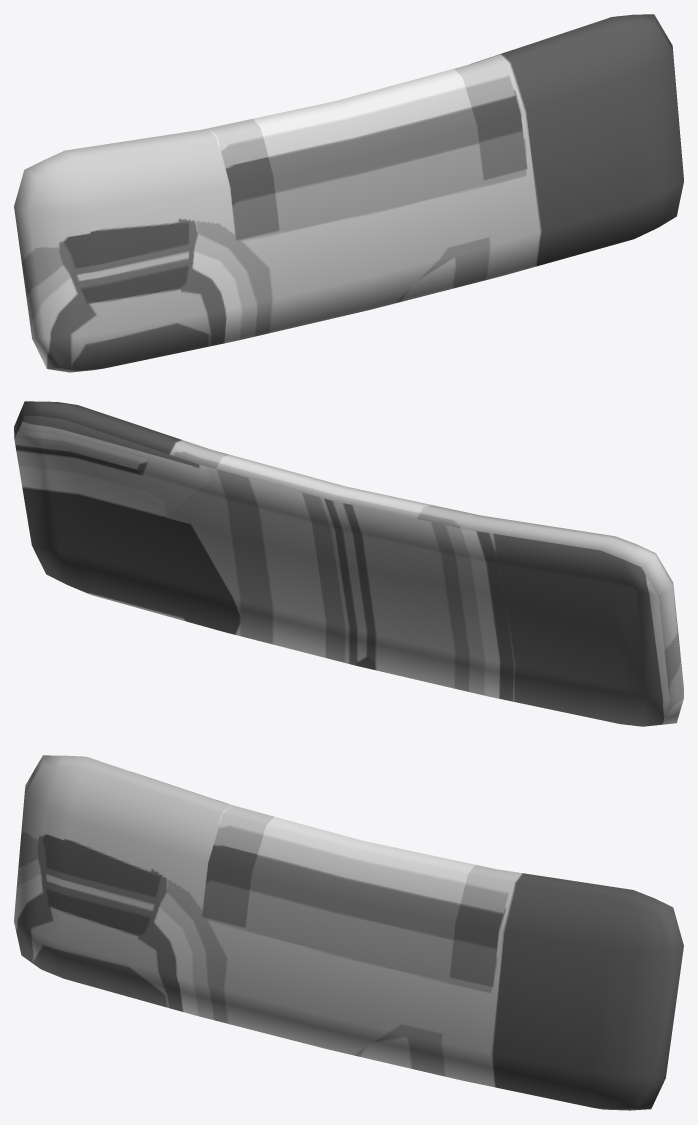
File: housepack_sofa_2_padding_1_meshCollider.FBX
3 renders of one model, top to bottom at view 1: azimuth 30°, elevation 25°; view 2: azimuth 150°, elevation 25°; view 3: azimuth 330°, elevation 25°, orthographic.
Visible parts, largest first — view 1: housepack_sofa_2_padding_1_meshCollider; view 2: housepack_sofa_2_padding_1_meshCollider; view 3: housepack_sofa_2_padding_1_meshCollider.
Part boxes in pixels (box(x1,y1,x2,y2)): housepack_sofa_2_padding_1_meshCollider: box(14, 14, 683, 372); housepack_sofa_2_padding_1_meshCollider: box(14, 401, 683, 726); housepack_sofa_2_padding_1_meshCollider: box(14, 755, 683, 1110).
Size of the model in its own units: 95.18 by 28.85 by 10.44.
